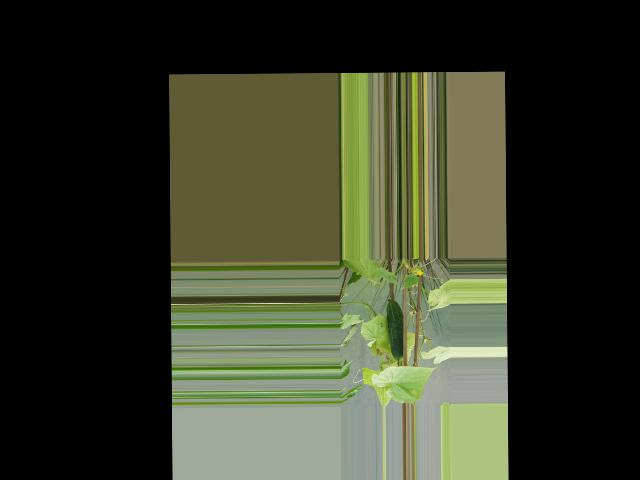cucumber: (386, 299, 404, 359)
